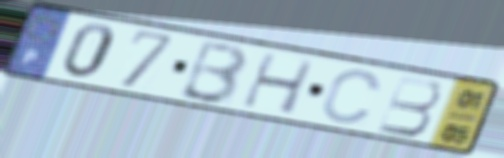0: (57, 22, 117, 81)
7: (121, 26, 178, 92)
B: (174, 39, 251, 107), (374, 73, 444, 139)
C: (318, 67, 385, 126)
H: (238, 50, 320, 117)
